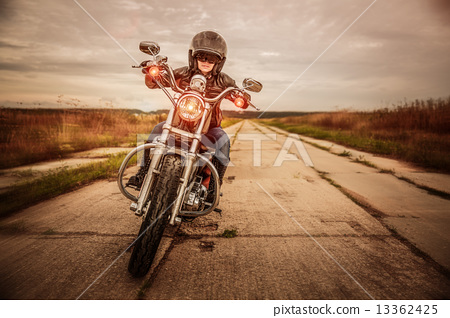helmet: (182, 27, 229, 74)
